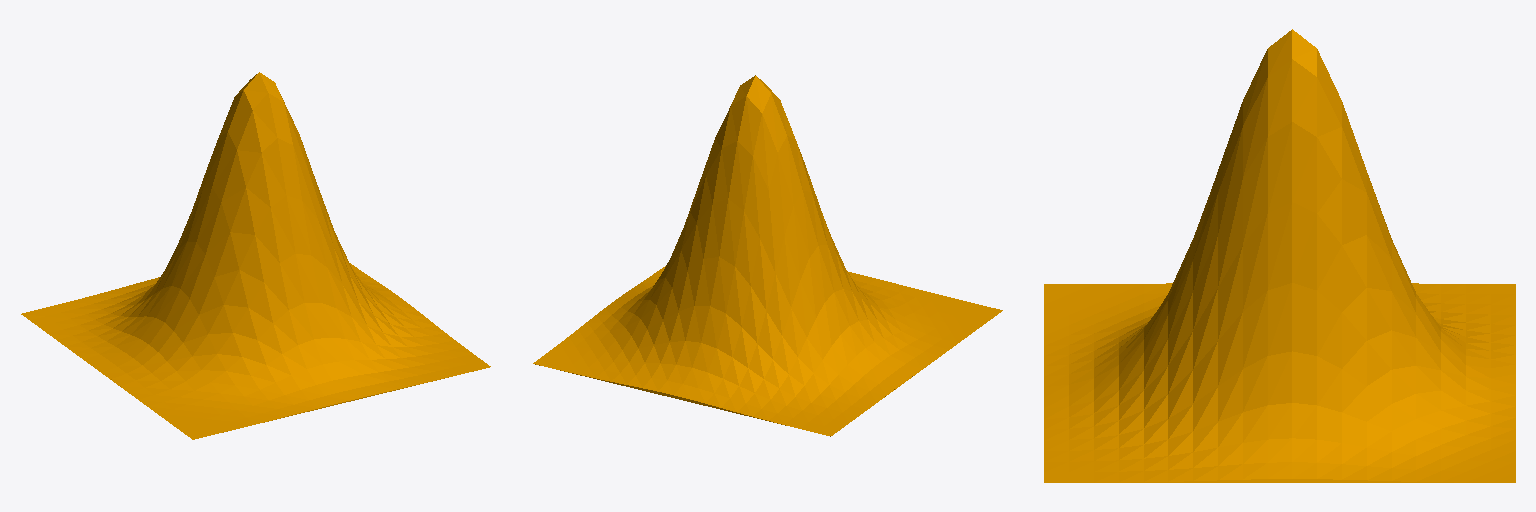
robot.urdf — tall_steep_mountain:
<?xml version="1.0"?>
<robot name="tall_steep_mountain">
  <link name="baseLink">
    <inertial>
      <origin xyz="0 0 0" rpy="0 0 0"/>
      <mass value="1"/>
      <inertia ixx="1" ixy="0" ixz="0" iyy="1" iyz="0" izz="1"/>
    </inertial>
    <visual>
      <origin xyz="0 0 0" rpy="0 0 0"/>
      <geometry>
        <mesh filename="tall_steep_mountain.obj" scale="1 1 1"/>
      </geometry>
    </visual>
    <collision>
      <origin xyz="0 0 0" rpy="0 0 0"/>
      <geometry>
        <mesh filename="tall_steep_mountain.obj" scale="1 1 1"/>
      </geometry>
    </collision>
  </link>
</robot>

--- Render facts (derived) ---
3 views of the same robot in one strip: view 1: azimuth 30°, elevation 25°; view 2: azimuth 150°, elevation 25°; view 3: azimuth 270°, elevation 25° (orthographic).
Model tall_steep_mountain with 1 links and 0 joints (none), rooted at baseLink, posed all joints at 0.
Visible links, largest first — view 1: baseLink; view 2: baseLink; view 3: baseLink.
Boxes of the visible links, bbox=[...] form: baseLink: bbox=[21, 72, 490, 439]; baseLink: bbox=[533, 75, 1002, 436]; baseLink: bbox=[1044, 29, 1515, 482].
Size in the robot's own frame: 9.5 by 9.5 by 8 metres.
1 mesh visuals loaded from 1 distinct referenced files (1 OBJ).
